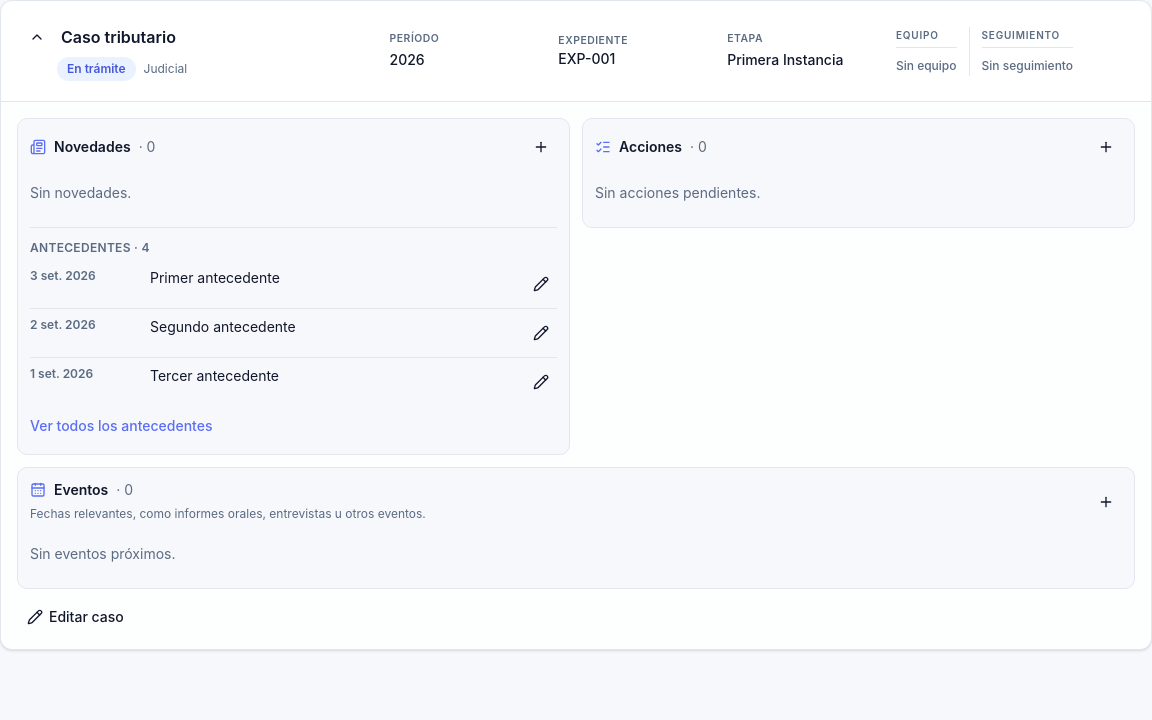
Test: CasePresentationCase › shows the three latest backgrounds and expands the complete history
The width and height of the screenshot is (1152, 720).
Check: the heading "Antecedentes · 4" is shown, box [30,240,150,255]
Check: the text "Primer antecedente" is shown, box [150,269,280,286]
Click the button "Ver todos los antecedentes" at (121, 426), box [30,410,212,442]
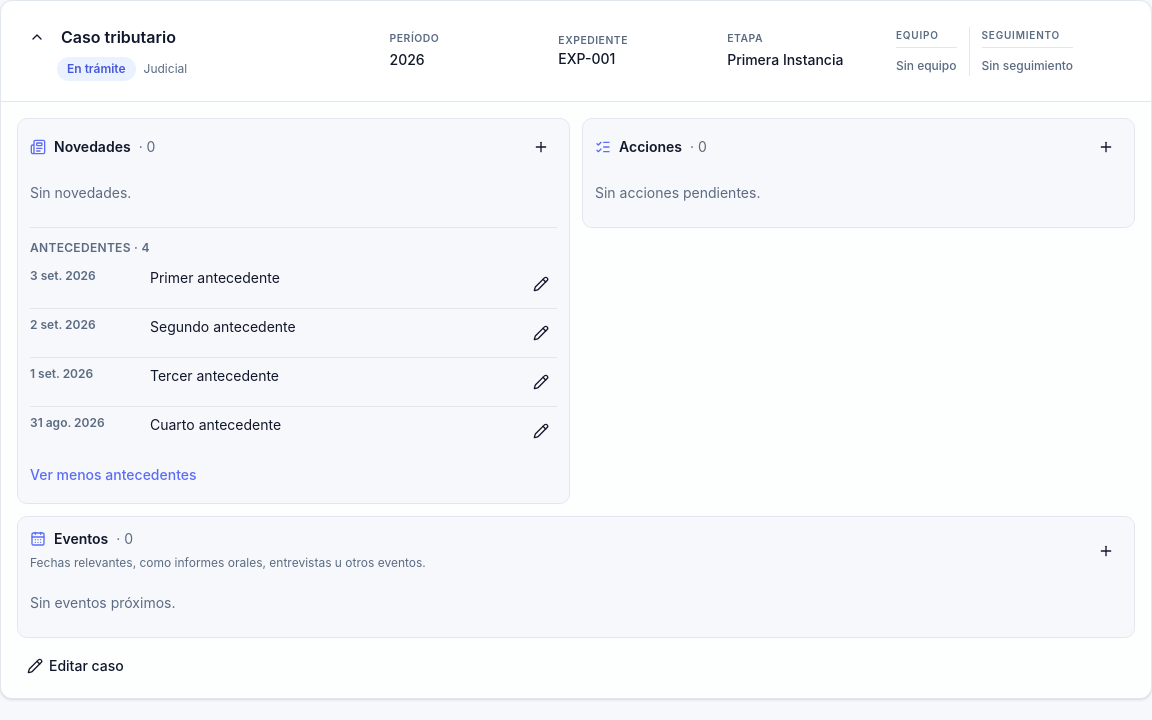
Check: the text "Cuarto antecedente" is shown, box [150,416,281,433]
Check: the button "Ver menos antecedentes" is shown, box [30,459,197,491]
